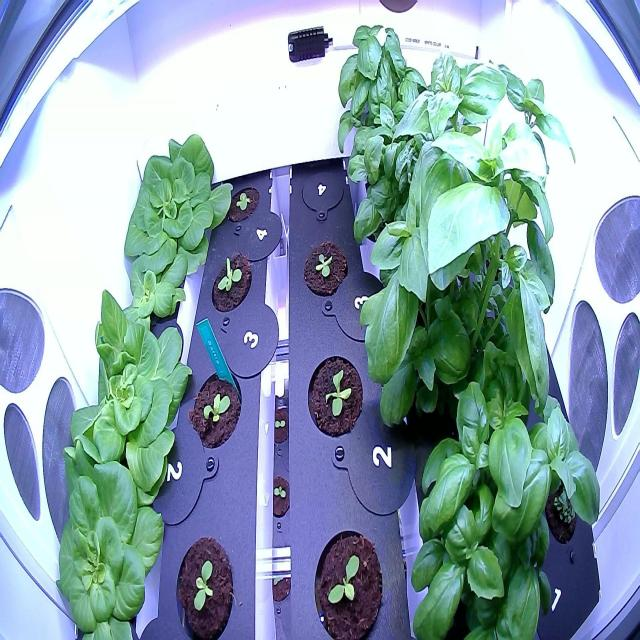empty_pod: (297, 160, 351, 224)
young: (58, 281, 194, 503), (44, 456, 169, 639), (111, 118, 234, 296), (98, 234, 192, 353), (310, 522, 384, 640), (172, 520, 238, 639), (301, 346, 366, 445), (186, 356, 244, 462), (298, 225, 352, 310), (206, 246, 259, 322), (224, 177, 261, 228)
